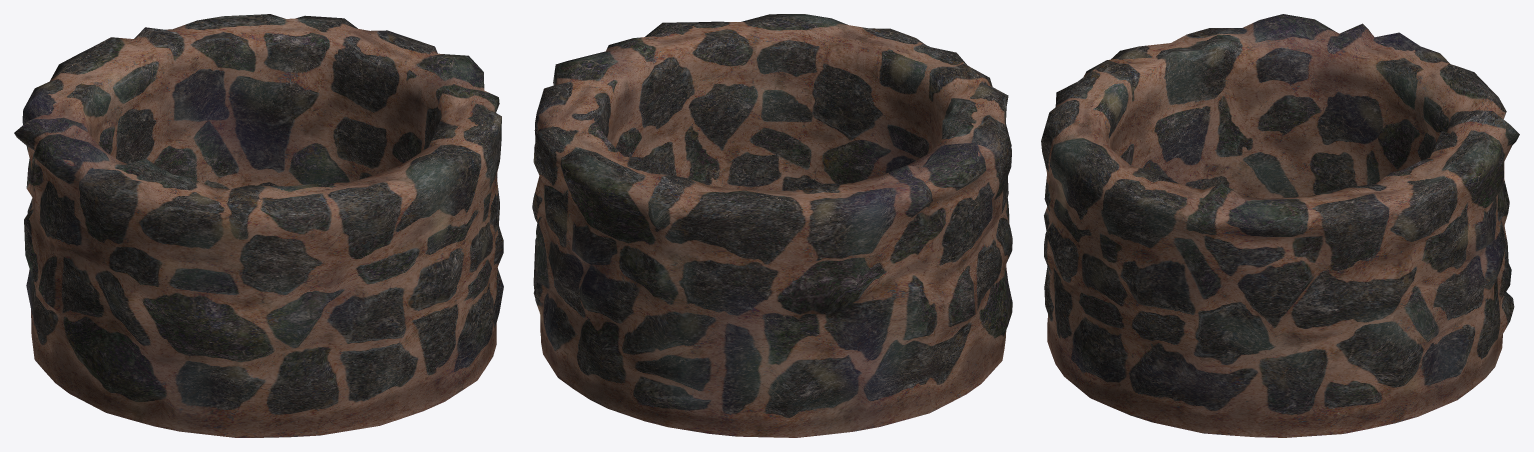
Rendered from SM_Well.fbx.
3 views of the same model, side by side, from view 1: azimuth 30°, elevation 25°; view 2: azimuth 150°, elevation 25°; view 3: azimuth 270°, elevation 25° (orthographic). The views are drawn at different scales.
Parts seen in each view (by area): view 1: SM_Well; view 2: SM_Well; view 3: SM_Well.
Boxes of the visible parts, left/top/right/bottom form: SM_Well: left=14, top=14, right=503, bottom=437; SM_Well: left=532, top=14, right=1012, bottom=437; SM_Well: left=1041, top=14, right=1519, bottom=437.
Size of the model in its own units: 157 by 157 by 84.29.
Materials: 1 (1 with a texture image).
